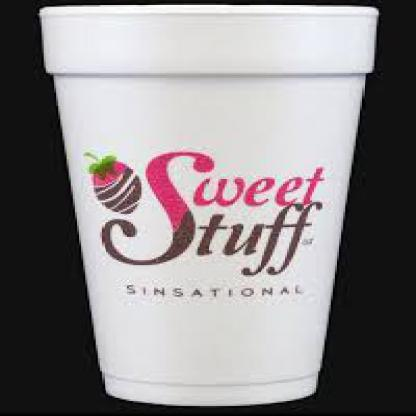paper: (38, 3, 376, 404)
